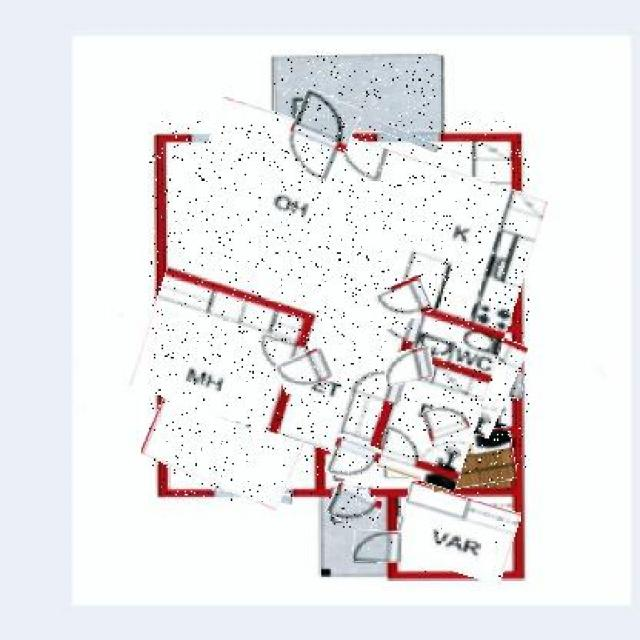door: (149, 120, 529, 468), (154, 315, 326, 500), (274, 56, 438, 132), (417, 322, 520, 432), (394, 489, 517, 577), (428, 431, 515, 489), (428, 283, 510, 326)
window: (284, 92, 356, 180), (374, 280, 429, 326), (328, 438, 380, 484), (277, 349, 331, 391), (328, 486, 378, 528), (383, 348, 434, 384), (425, 403, 469, 442), (354, 530, 401, 562)
zone: (214, 483, 292, 502), (380, 128, 438, 148), (192, 137, 271, 141), (511, 374, 523, 398)
